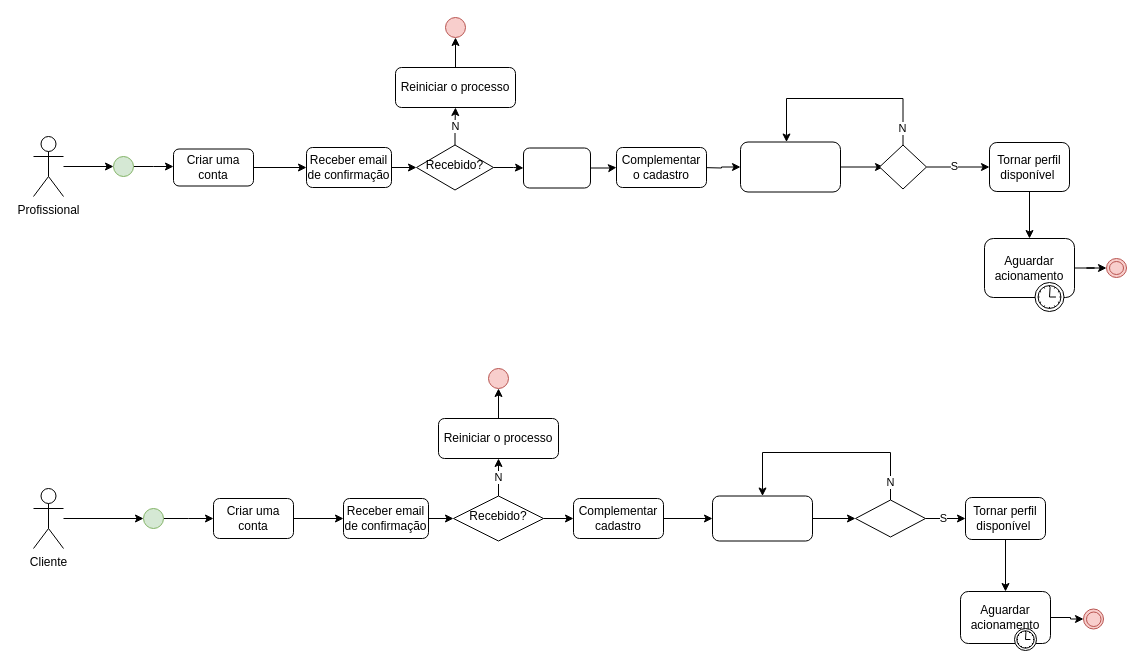
Image size: 1144x668. Some labels were removed from this diagram. The box of each missing label's shape, as (x1, y1, x2, y2) in pixels:
Buscar por serviço ou Profissional: (712, 495, 812, 541)
Realizar login: (522, 147, 590, 188)
Registrar o serviço, preços e condições: (740, 141, 840, 192)
